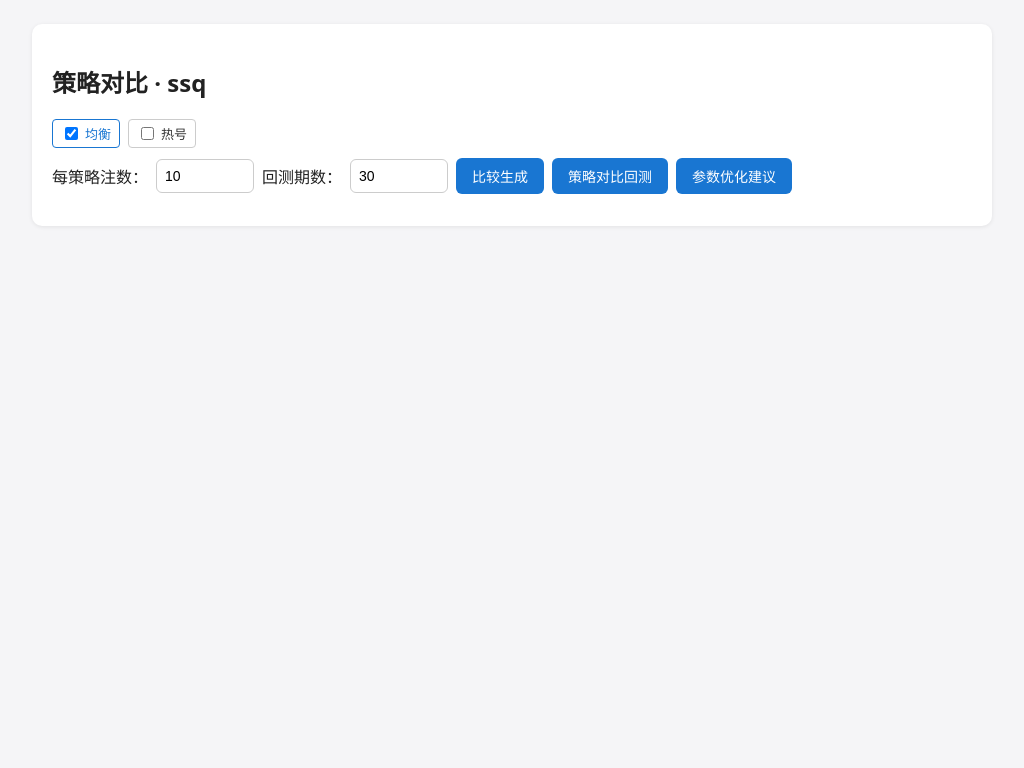
Compare › 比较生成：渲染对比图、历史基线、策略卡片与和值分布
This screenshot has width=1024, height=768.
Click the button "比较生成" at (500, 176), box [456,158,544,194]
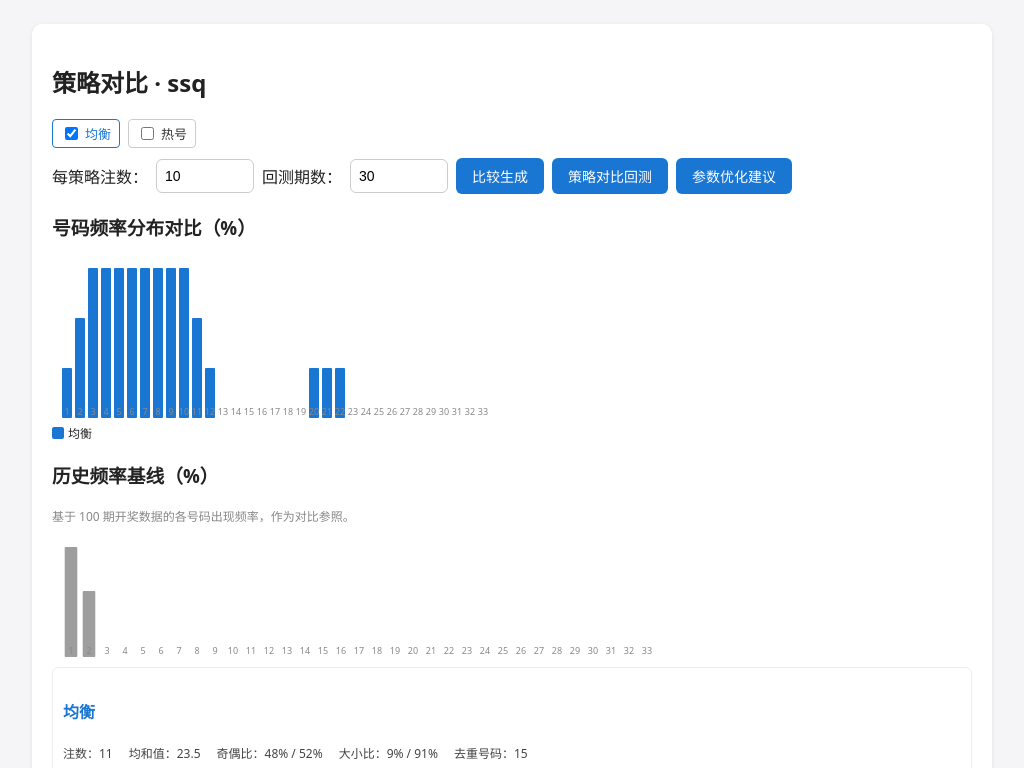
Check: the icon with class "grouped" is shown, box [52,258,501,418]
Check: the icon with class "barchart" is shown, box [52,537,666,657]
Check: the text "均和值" is shown, box [129,745,200,762]
